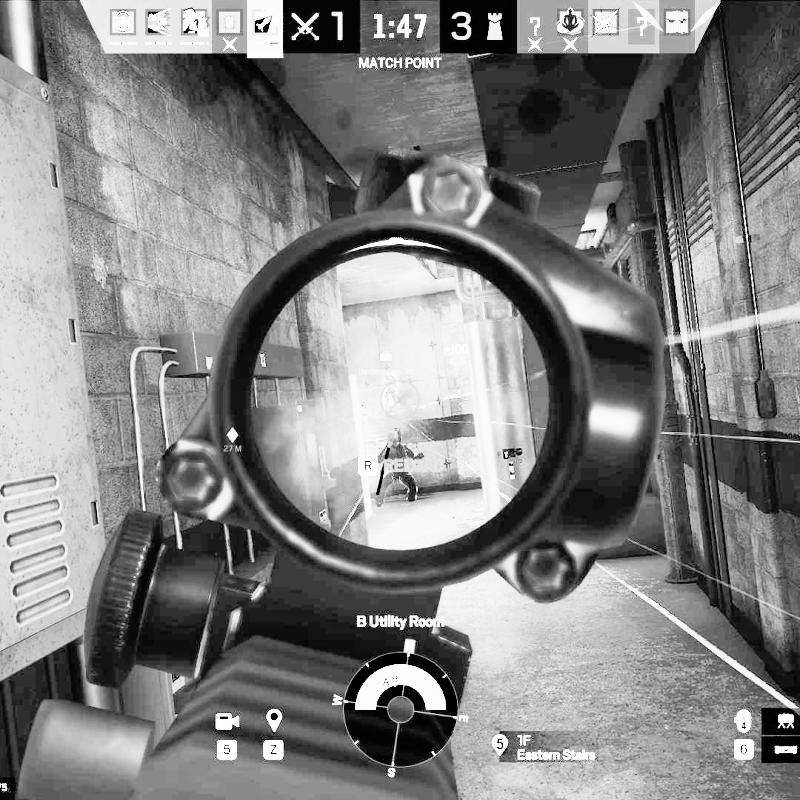Character: (371, 426, 426, 509)
Friend_label: (358, 350, 414, 376)
Head: (387, 429, 401, 446)
